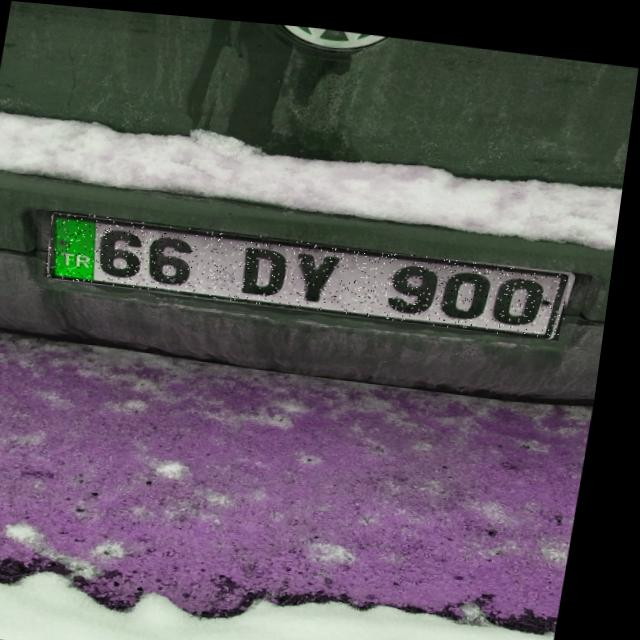license_plate: (49, 208, 580, 330)
